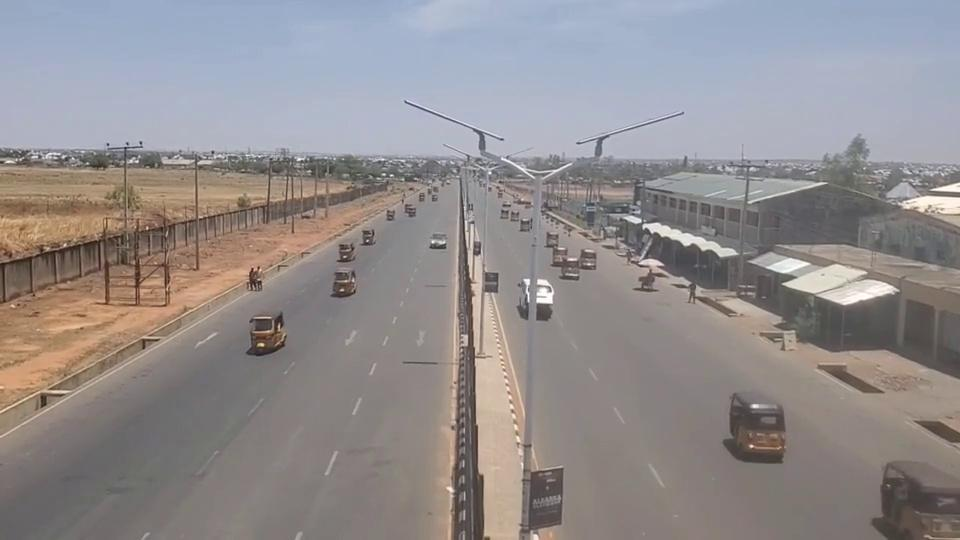bus: (519, 277, 554, 318)
car: (430, 233, 448, 249)
keke: (878, 462, 960, 538), (728, 390, 786, 460), (248, 310, 286, 354), (332, 269, 357, 296), (579, 248, 597, 270), (338, 241, 356, 261), (362, 228, 376, 245), (519, 217, 532, 231), (386, 208, 395, 220)
